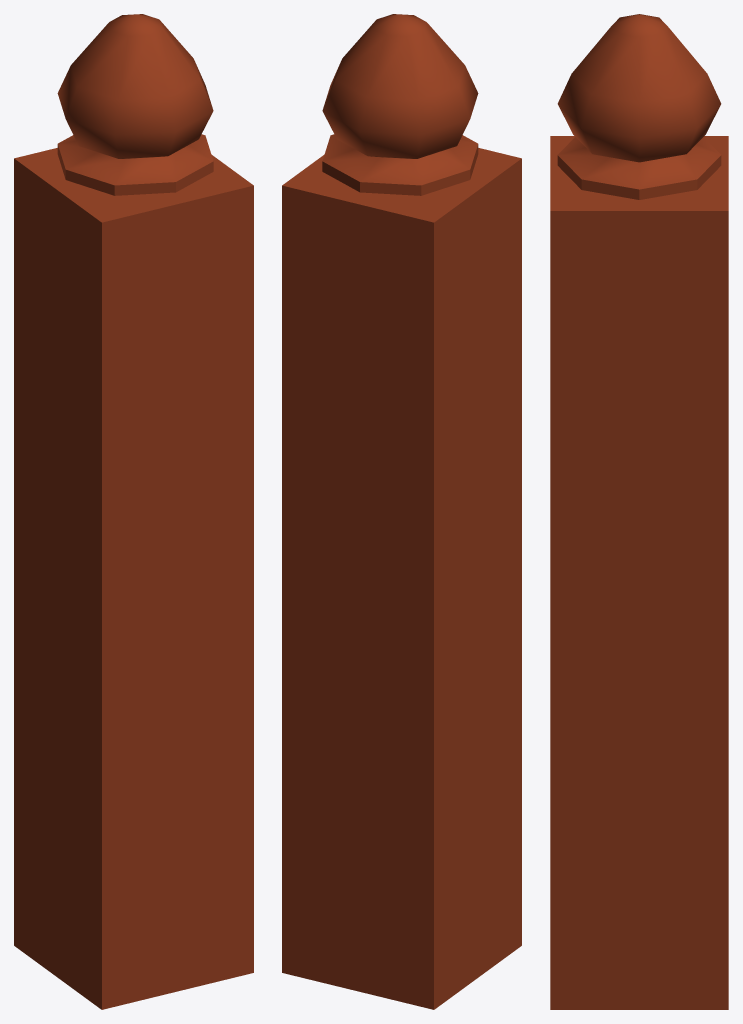
The model's file is balaustre.fbx.
3 views of the same model, side by side, from view 1: azimuth 30°, elevation 25°; view 2: azimuth 150°, elevation 25°; view 3: azimuth 270°, elevation 25° (orthographic).
Visible parts, largest first — view 1: polySurface43; view 2: polySurface43; view 3: polySurface43.
Boxes of the visible parts, bbox=[...] form: polySurface43: bbox=[14, 14, 253, 1009]; polySurface43: bbox=[282, 14, 521, 1009]; polySurface43: bbox=[550, 14, 728, 1009].
Bounding box in the file's own units: 25.27 × 150 × 25.27.
